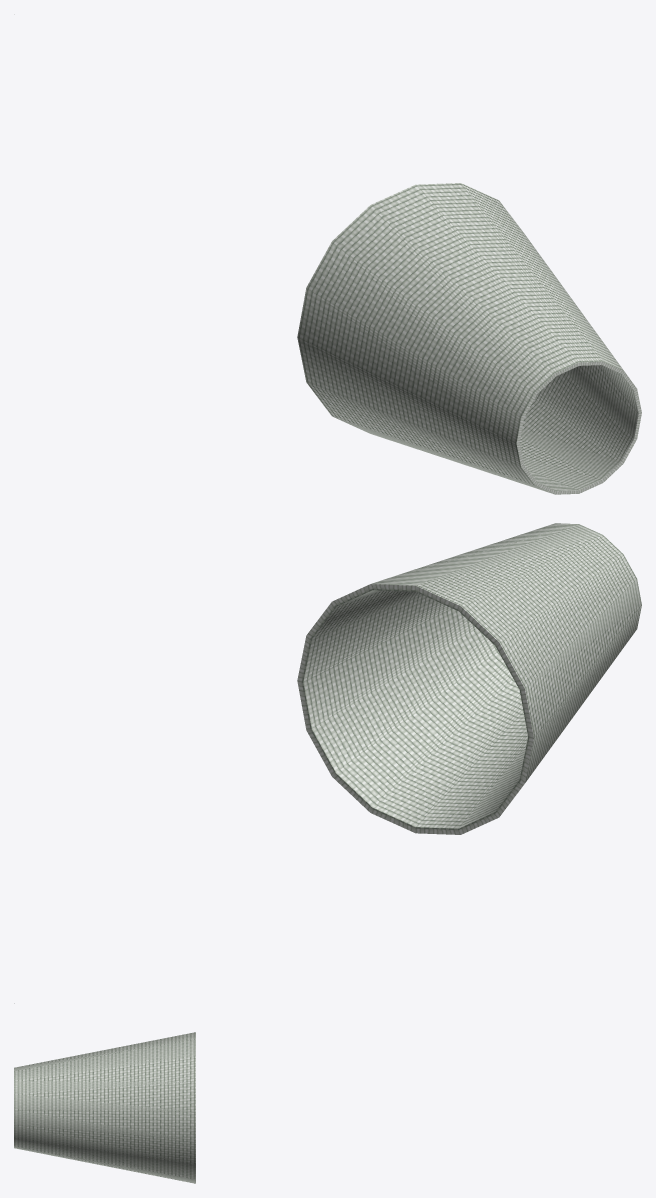
The model's file is MeshFloorLamp_13_0_GeomSubset_2.obj.
3 views of the same model, one above another, from view 1: azimuth 30°, elevation 25°; view 2: azimuth 150°, elevation 25°; view 3: azimuth 270°, elevation 25° (orthographic). The views are drawn at different scales.
Parts seen in each view (by area): view 1: MeshFloorLamp_13_0_GeomSubset_2; view 2: MeshFloorLamp_13_0_GeomSubset_2; view 3: MeshFloorLamp_13_0_GeomSubset_2.
Boxes of the visible parts, bbox=[...] form: MeshFloorLamp_13_0_GeomSubset_2: bbox=[14, 14, 641, 494]; MeshFloorLamp_13_0_GeomSubset_2: bbox=[14, 523, 641, 1003]; MeshFloorLamp_13_0_GeomSubset_2: bbox=[14, 1032, 195, 1183].
Size of the model in its own units: 0.4786 by 0.4786 by 1.98.
